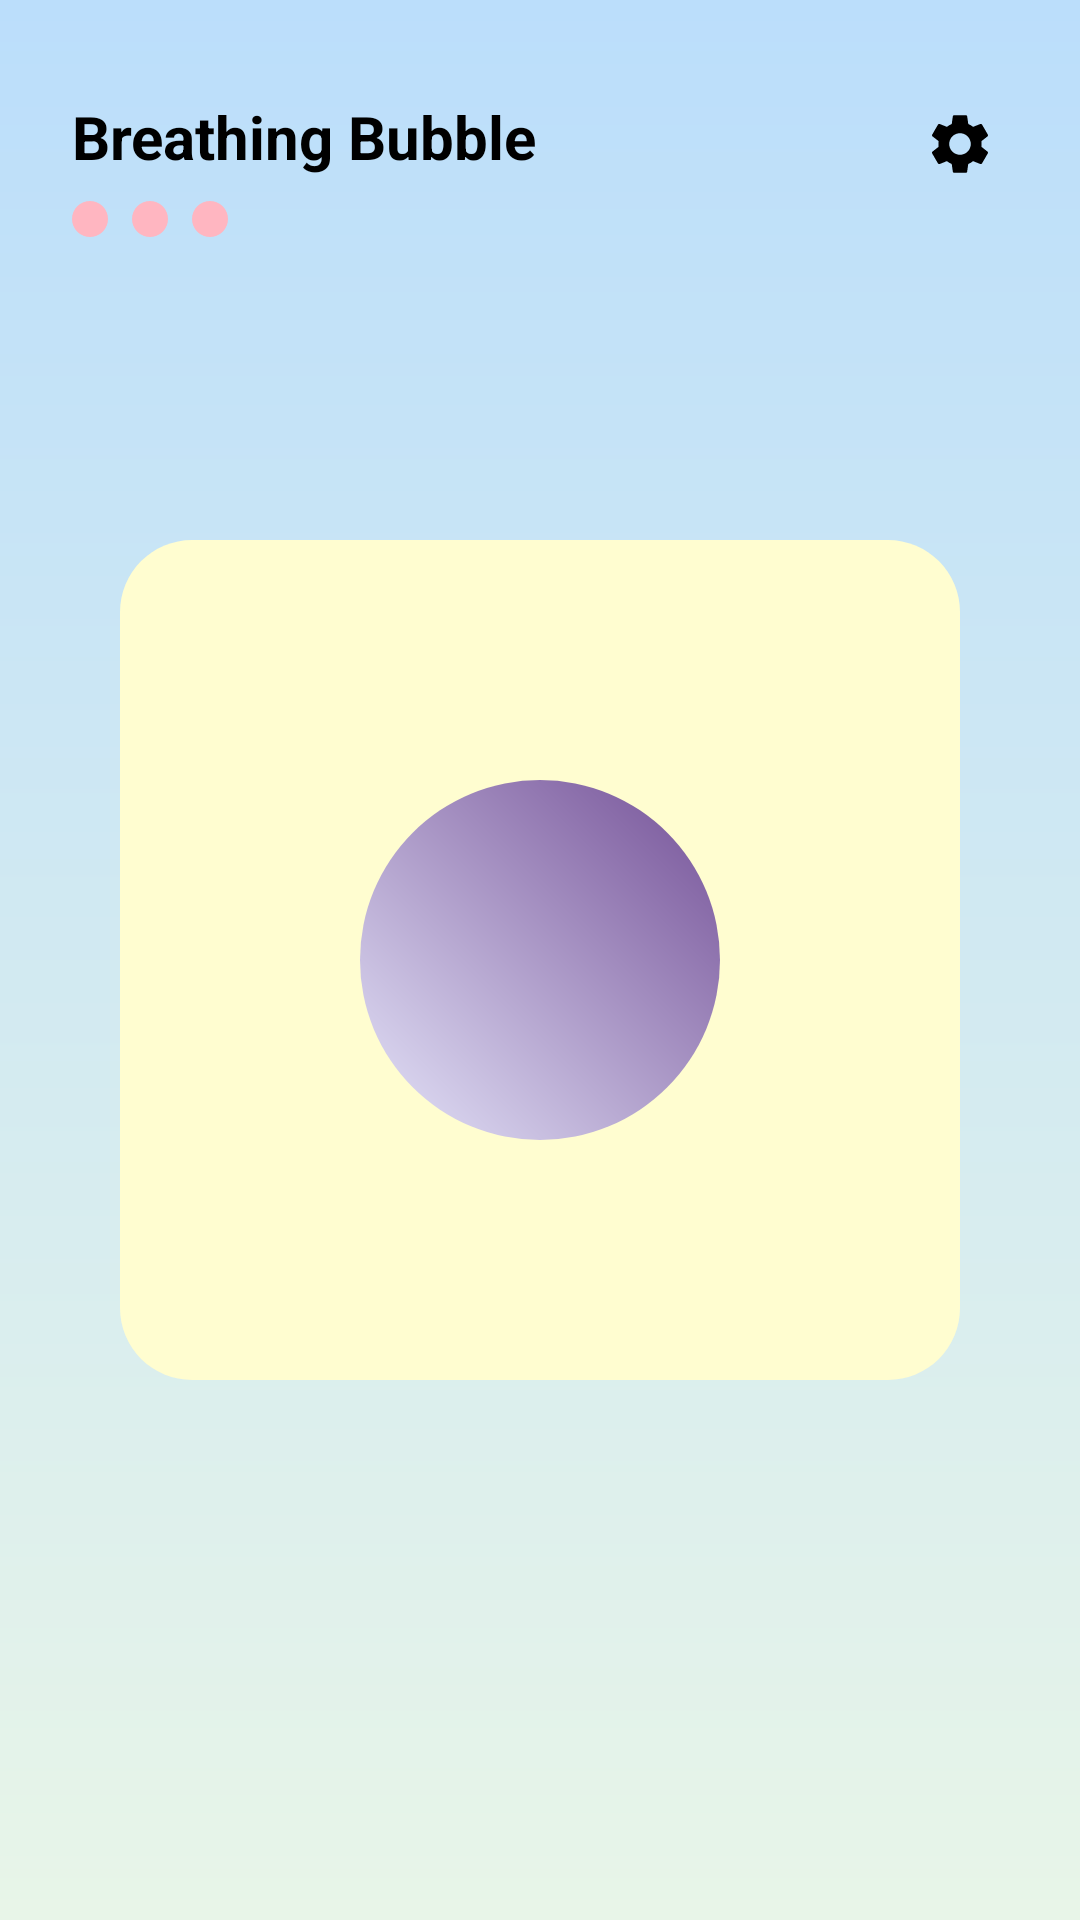

Icon bounding boxes for this 1080*1920 phone screenshot, format Rect(x1, y1, x2, y2):
Settings: Rect(932, 115, 988, 173)
